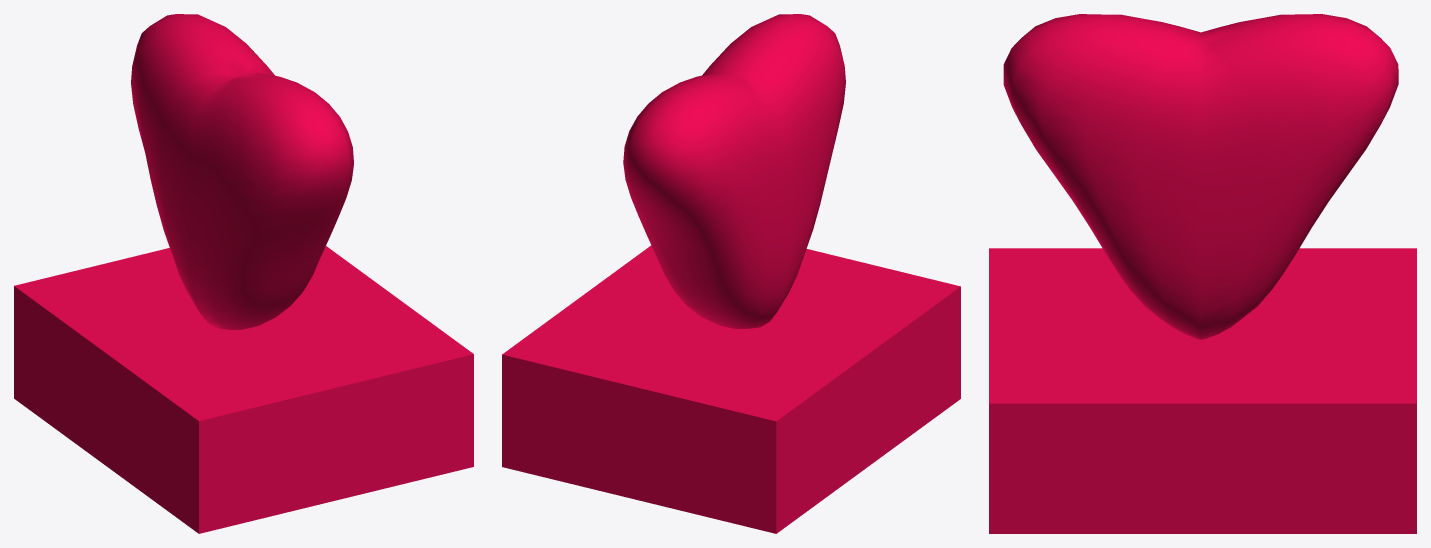
File: Heart_Placeholder_01.fbx
The picture shows the model from 3 angles, left to right: view 1: azimuth 30°, elevation 25°; view 2: azimuth 150°, elevation 25°; view 3: azimuth 270°, elevation 25°; orthographic projection. The views are drawn at different scales.
Visible parts, largest first — view 1: Heart; view 2: Heart; view 3: Heart.
Part boxes in pixels (x1,y1,x2,y2): Heart: [14, 14, 473, 533]; Heart: [502, 14, 960, 533]; Heart: [989, 14, 1416, 533].
Size of the model in its own units: 54.86 by 71.82 by 63.92.
